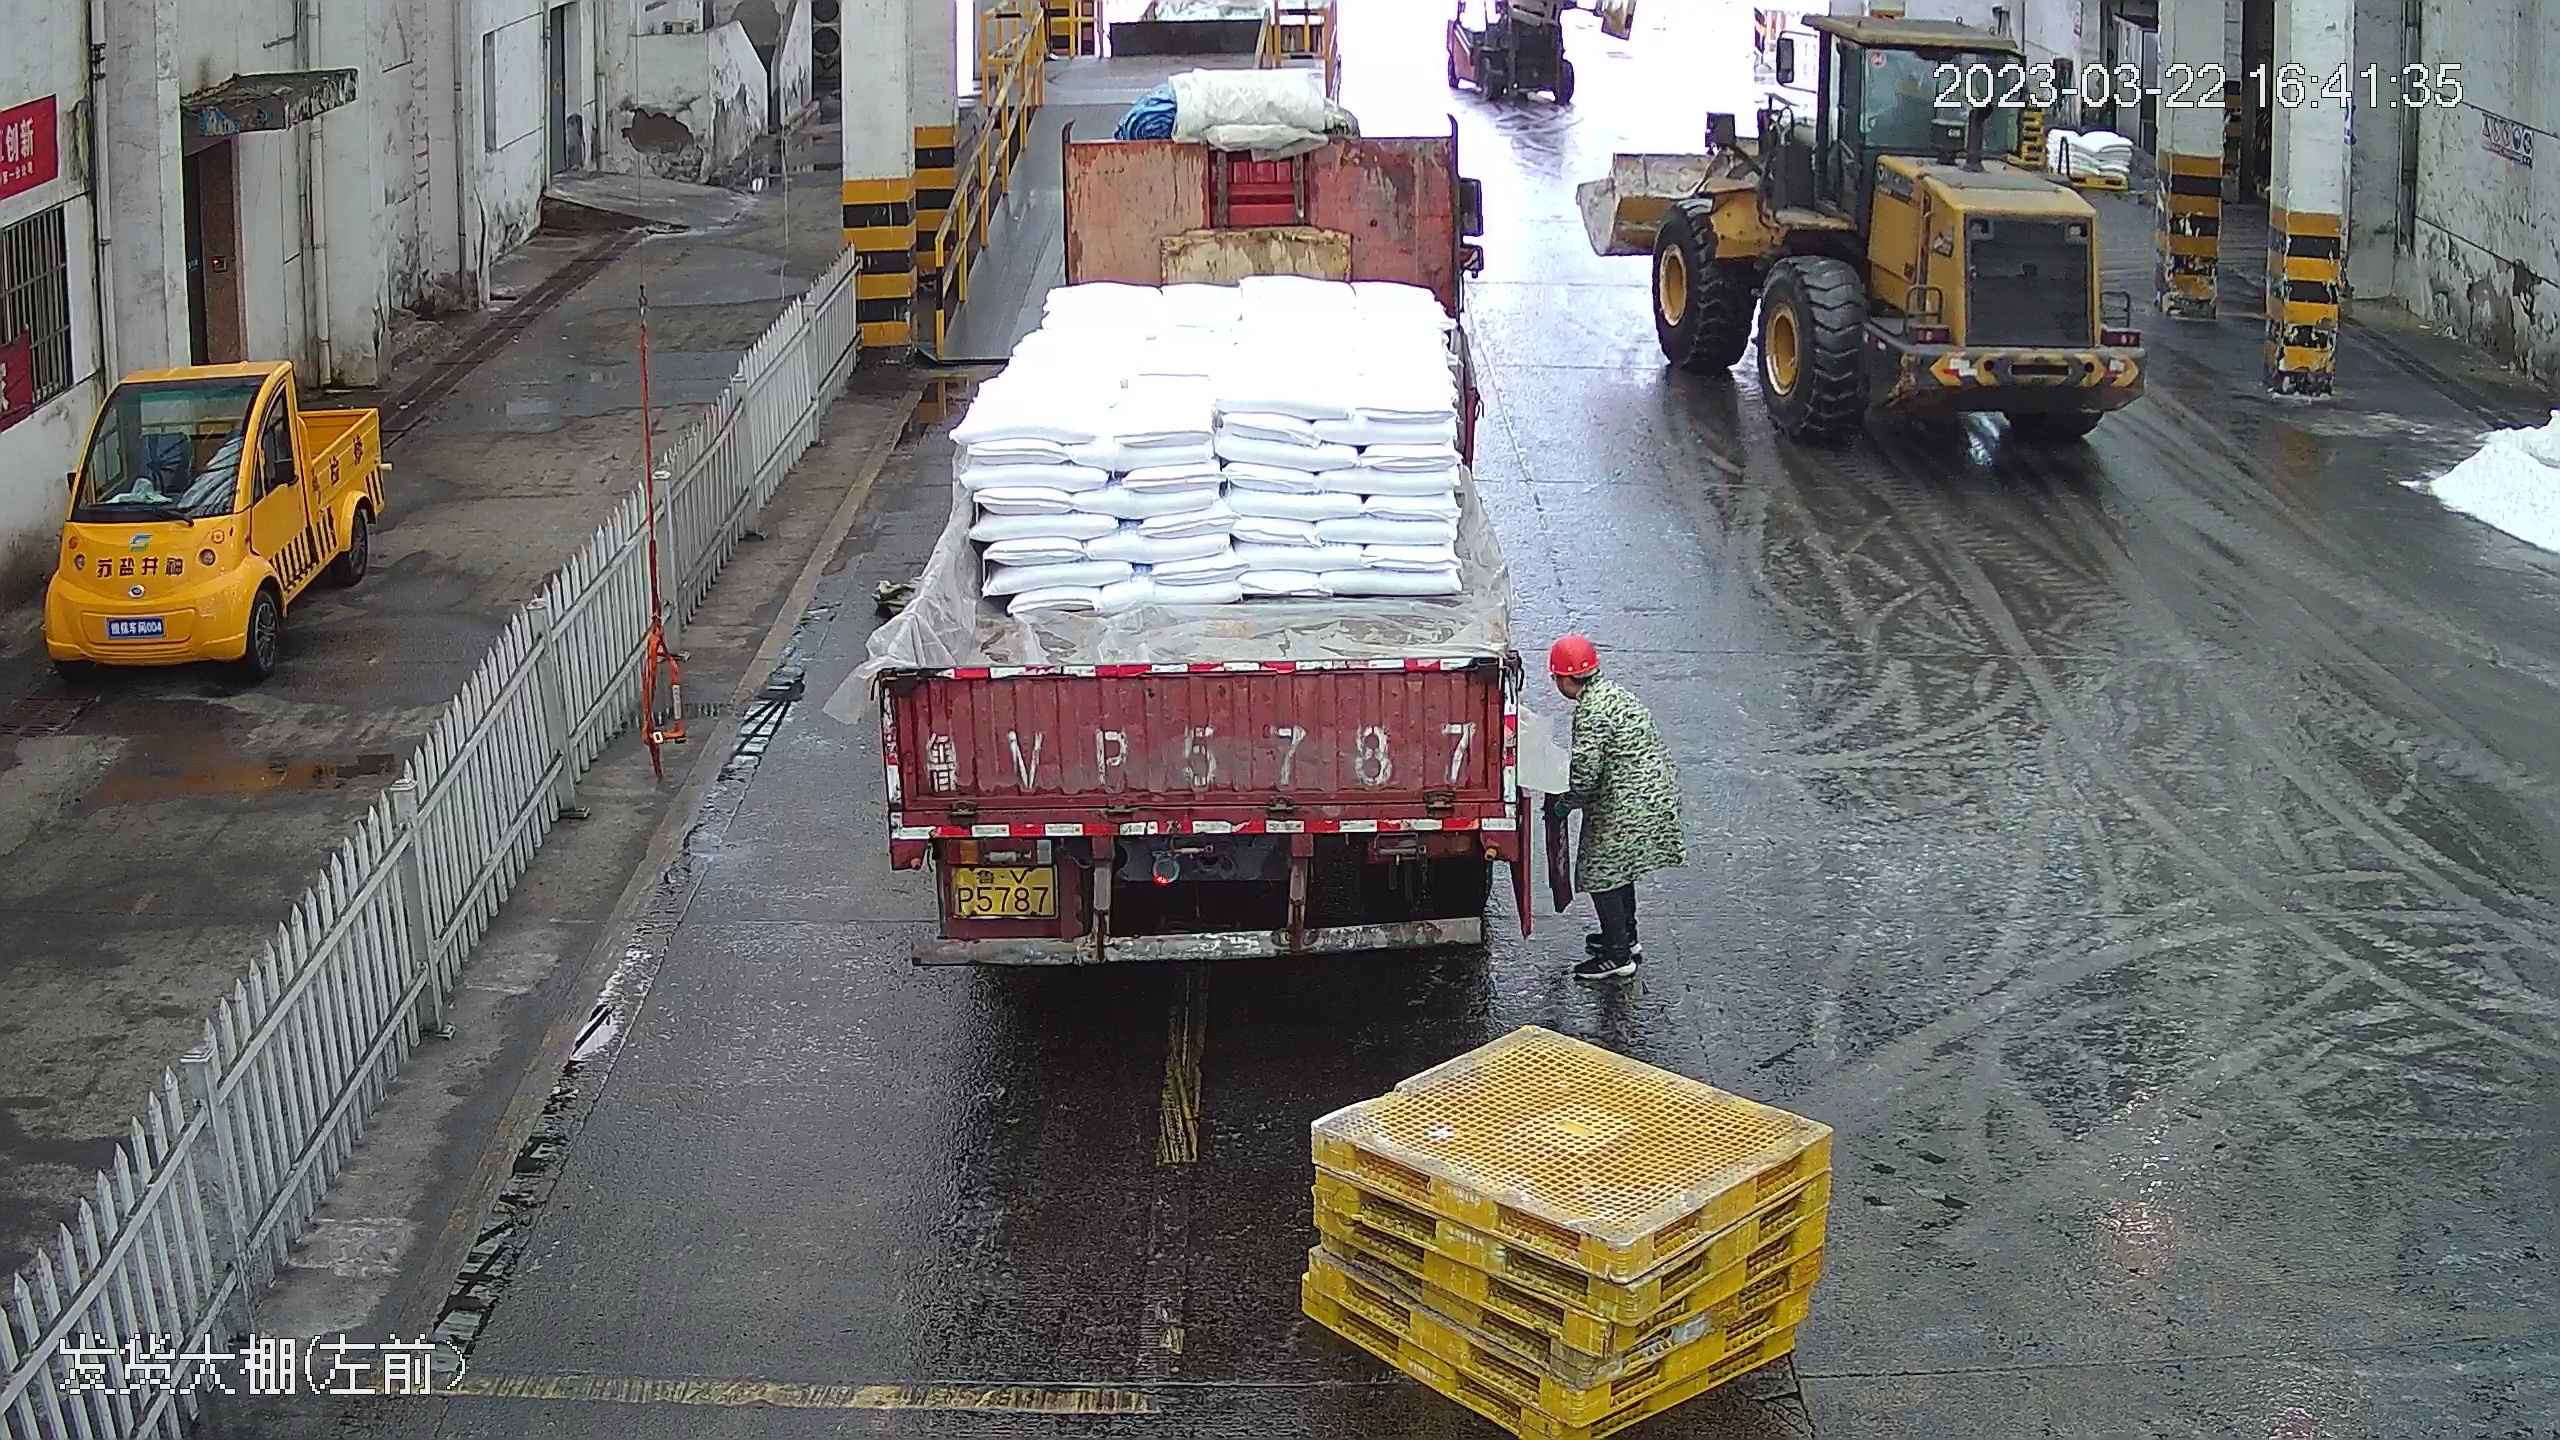head: (1546, 630, 1646, 748)
helmet: (1547, 631, 1604, 677)
people: (1544, 634, 1668, 983)
truck: (865, 12, 1533, 970)
